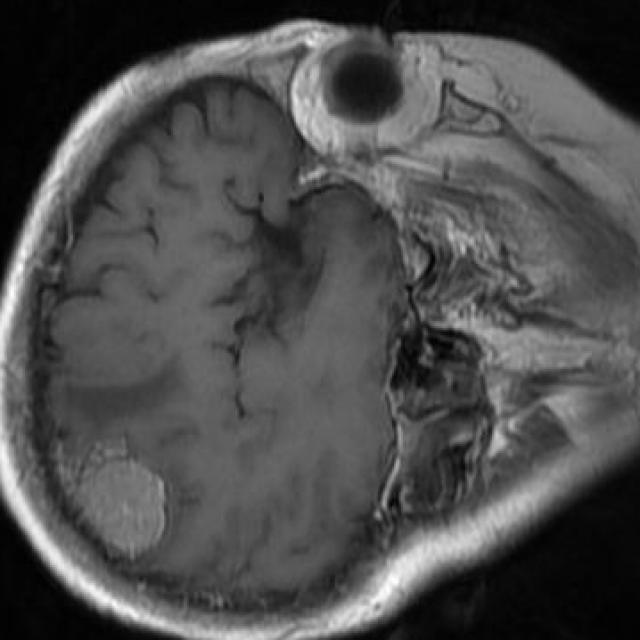meningioma: (62, 442, 166, 554)
